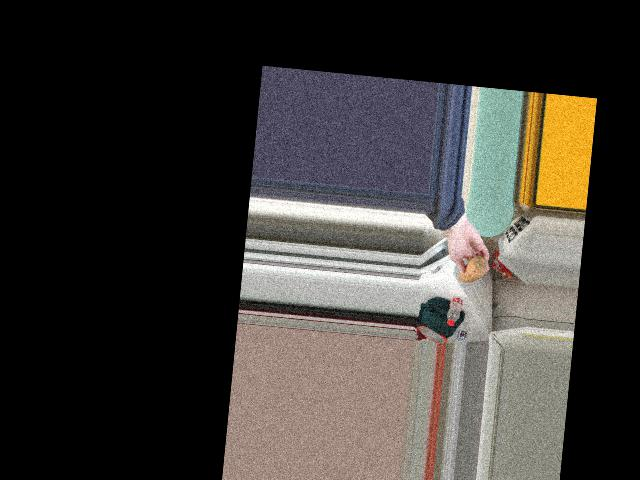sweet_potato: (455, 250, 485, 284)
